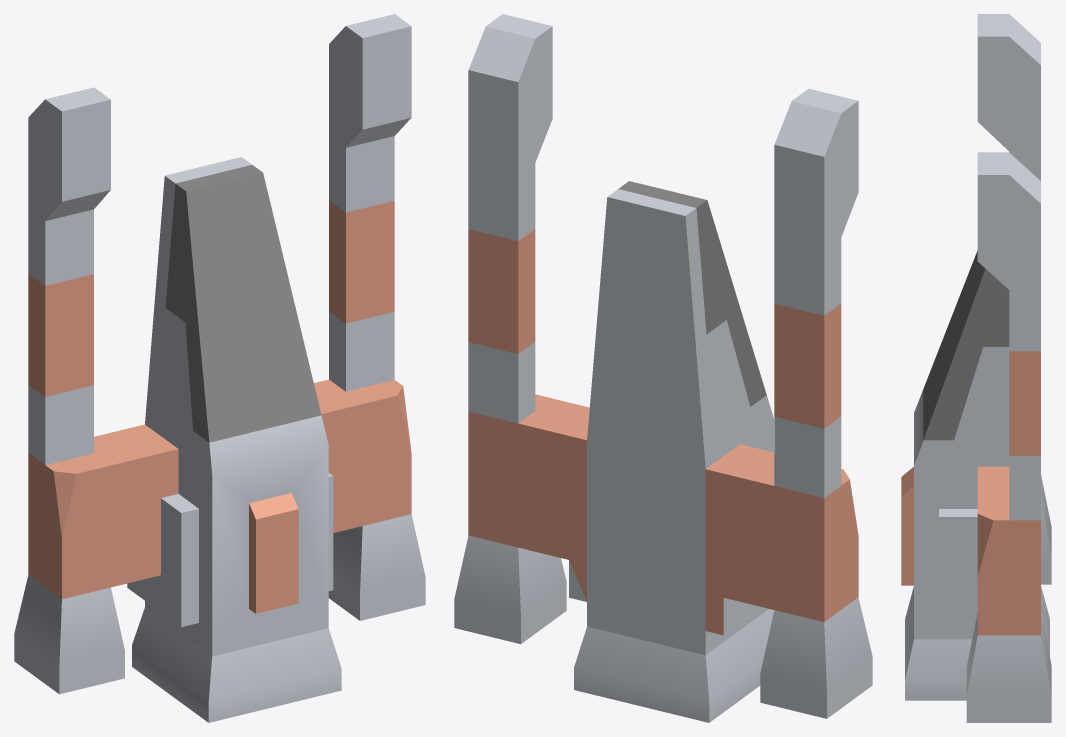
File: spaceCraft2.glb
3 views of the same model, side by side, from view 1: azimuth 30°, elevation 25°; view 2: azimuth 150°, elevation 25°; view 3: azimuth 270°, elevation 25° (orthographic). The views are drawn at different scales.
Visible parts, largest first — view 1: spaceCraft2; view 2: spaceCraft2; view 3: spaceCraft2.
Boxes of the visible parts, bbox=[...] form: spaceCraft2: bbox=[14, 14, 425, 722]; spaceCraft2: bbox=[454, 14, 872, 722]; spaceCraft2: bbox=[901, 14, 1051, 722].
Bounding box in the file's own units: 13.97 × 22.22 × 5.27.
